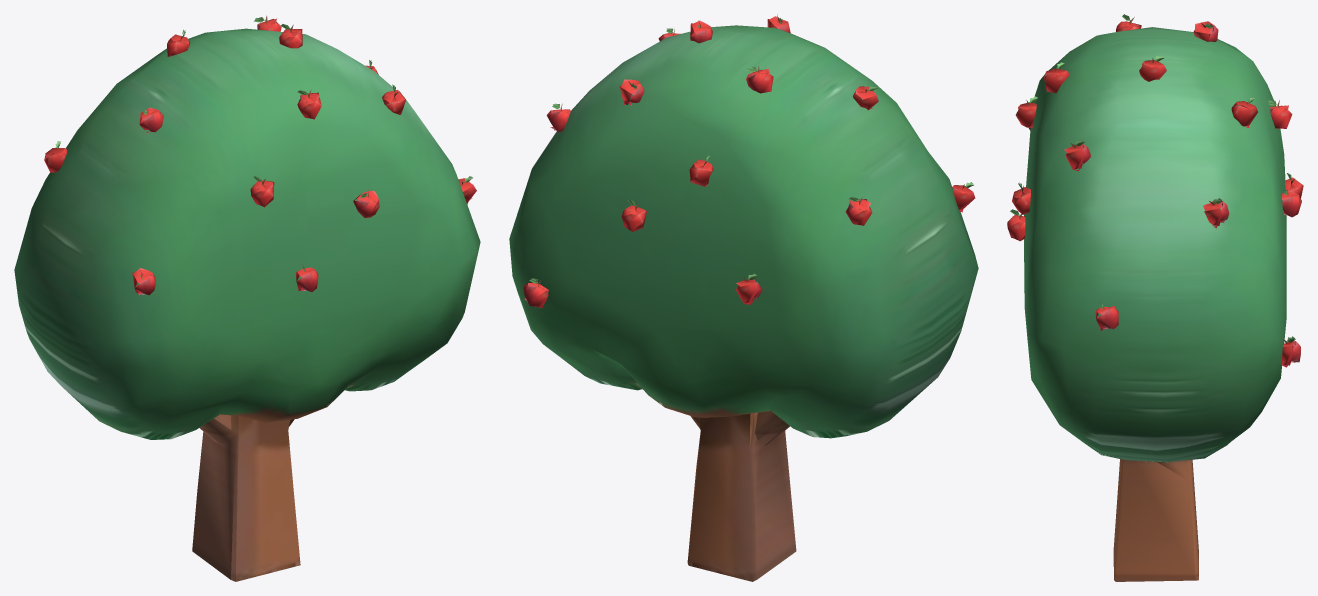
The picture shows the model from 3 angles, left to right: view 1: azimuth 30°, elevation 25°; view 2: azimuth 150°, elevation 25°; view 3: azimuth 270°, elevation 25°; orthographic projection.
Parts seen in each view (by area): view 1: Decor_apple_tree_1; view 2: Decor_apple_tree_1; view 3: Decor_apple_tree_1.
Part boxes in pixels (<box>): Decor_apple_tree_1: <box>14,15,480,581</box>; Decor_apple_tree_1: <box>509,14,978,581</box>; Decor_apple_tree_1: <box>1007,14,1303,581</box>.
Bounding box in the file's own units: 3.78 × 4.69 × 2.38.
Materials: 2 (2 with a texture image).
